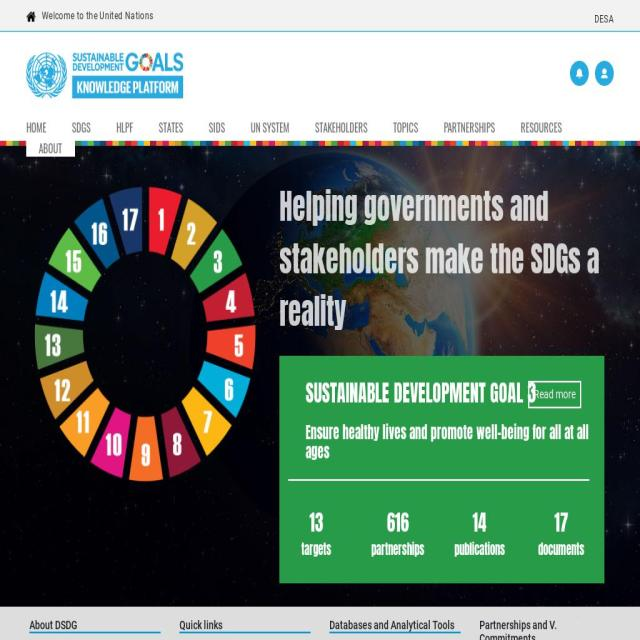button: (528, 381, 582, 409), (594, 8, 614, 31)
heading: (306, 379, 536, 488), (306, 422, 590, 462), (479, 617, 610, 640), (30, 618, 160, 632), (180, 618, 310, 632), (330, 618, 460, 632)
image: (0, 121, 216, 430), (26, 52, 184, 98), (0, 141, 640, 146), (570, 61, 589, 86), (595, 61, 614, 86), (26, 12, 36, 22)
link: (42, 10, 153, 22)
text: (280, 146, 604, 356), (302, 115, 380, 136), (431, 115, 508, 136), (508, 115, 575, 136), (238, 115, 303, 136), (371, 538, 425, 560), (454, 538, 505, 560), (146, 115, 196, 136), (381, 115, 431, 136), (538, 538, 584, 560), (26, 136, 75, 156), (59, 115, 104, 136), (104, 115, 146, 136), (196, 115, 238, 136), (387, 505, 409, 539), (26, 115, 59, 136), (301, 538, 332, 560), (309, 505, 324, 539), (472, 505, 487, 539), (554, 505, 568, 539)
